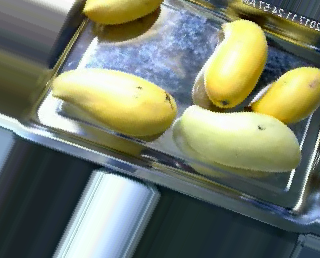Mango: (46, 65, 178, 134), (182, 102, 304, 172), (206, 18, 268, 109), (254, 65, 320, 126), (81, 0, 168, 28)
